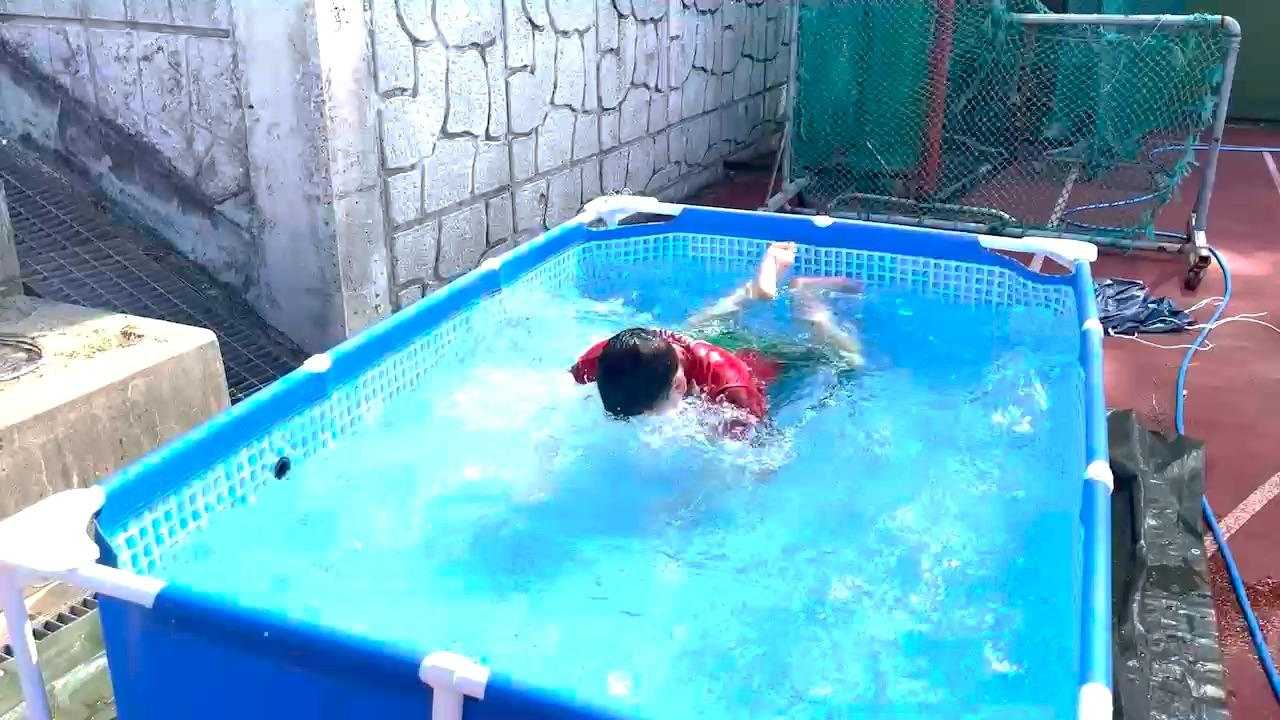Drowning: (559, 234, 877, 490)
